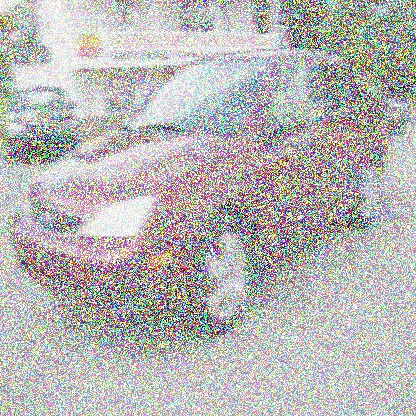Vehicle: (7, 50, 392, 335)
